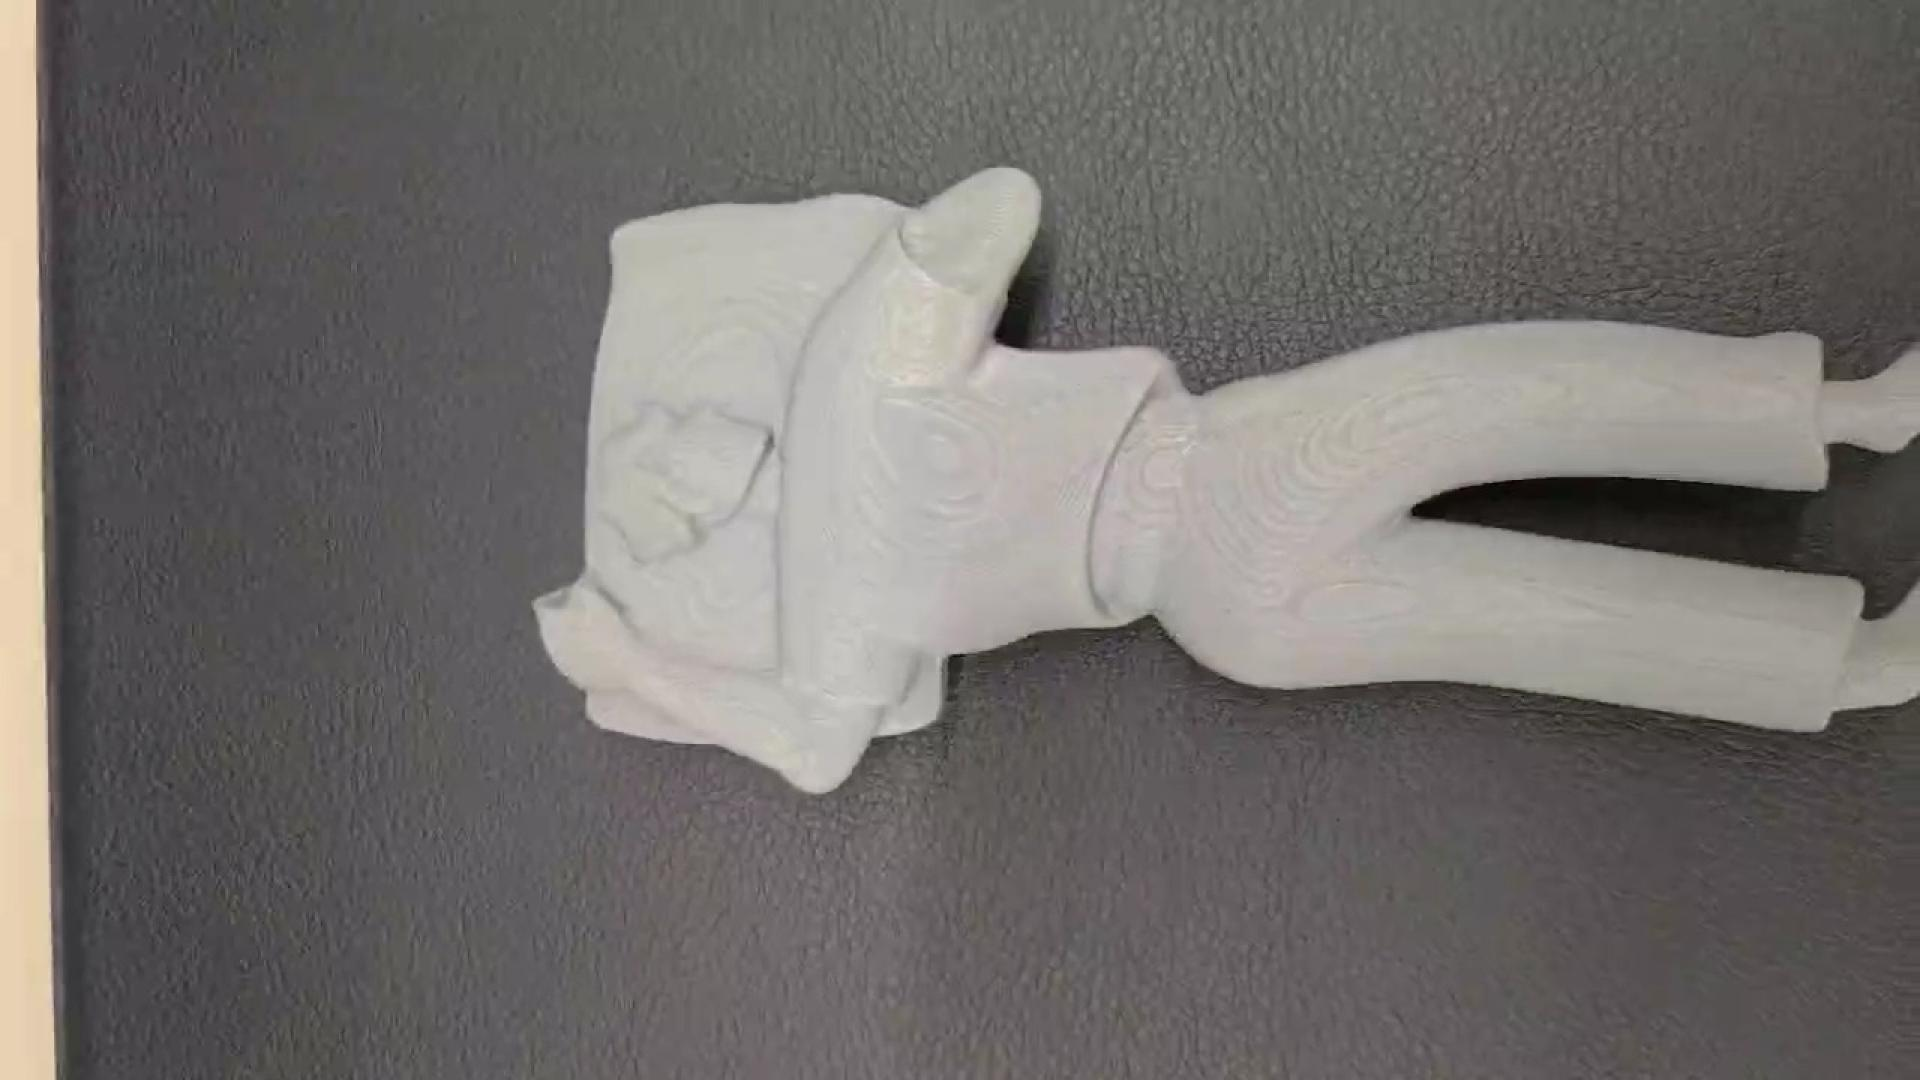Bad-style: (530, 158, 1920, 787)
